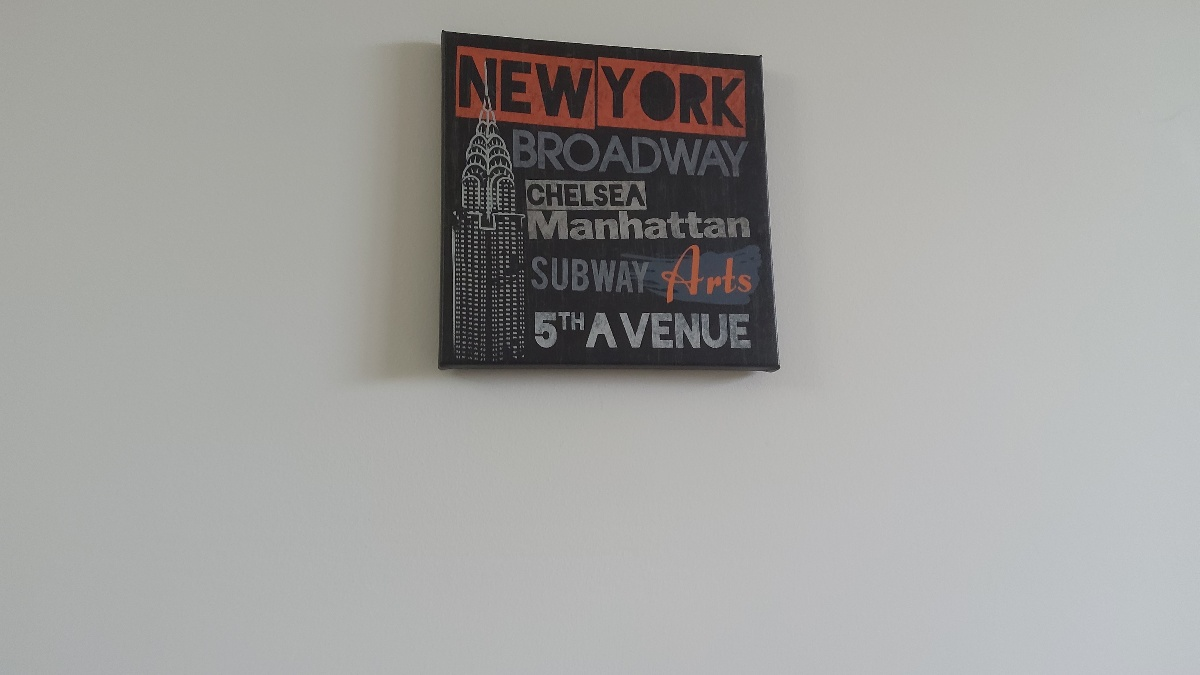poster: (432, 28, 788, 376)
